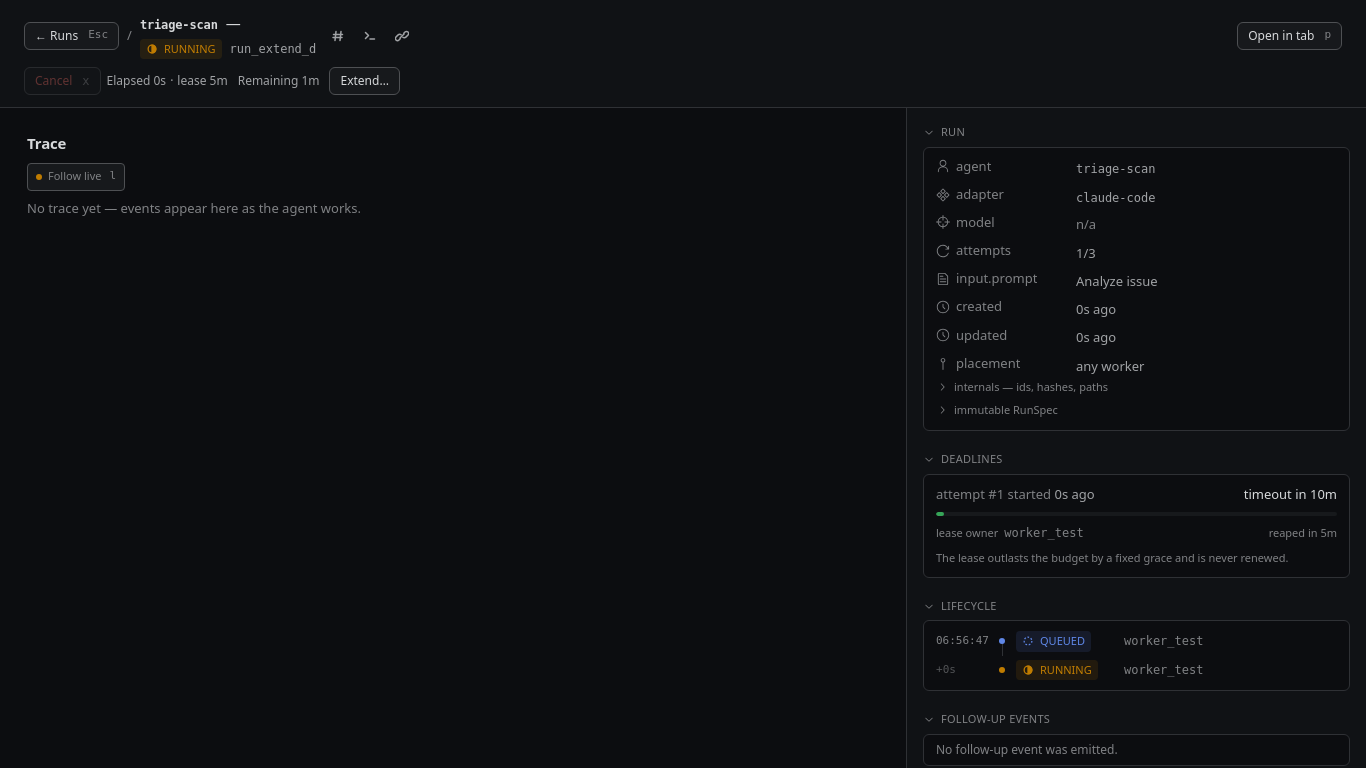
it: RunFull deadline extension (WM-566) › custom extension submit is disabled while disconnected
Click the button "Extend…" at (365, 81), box [330,67,400,95]
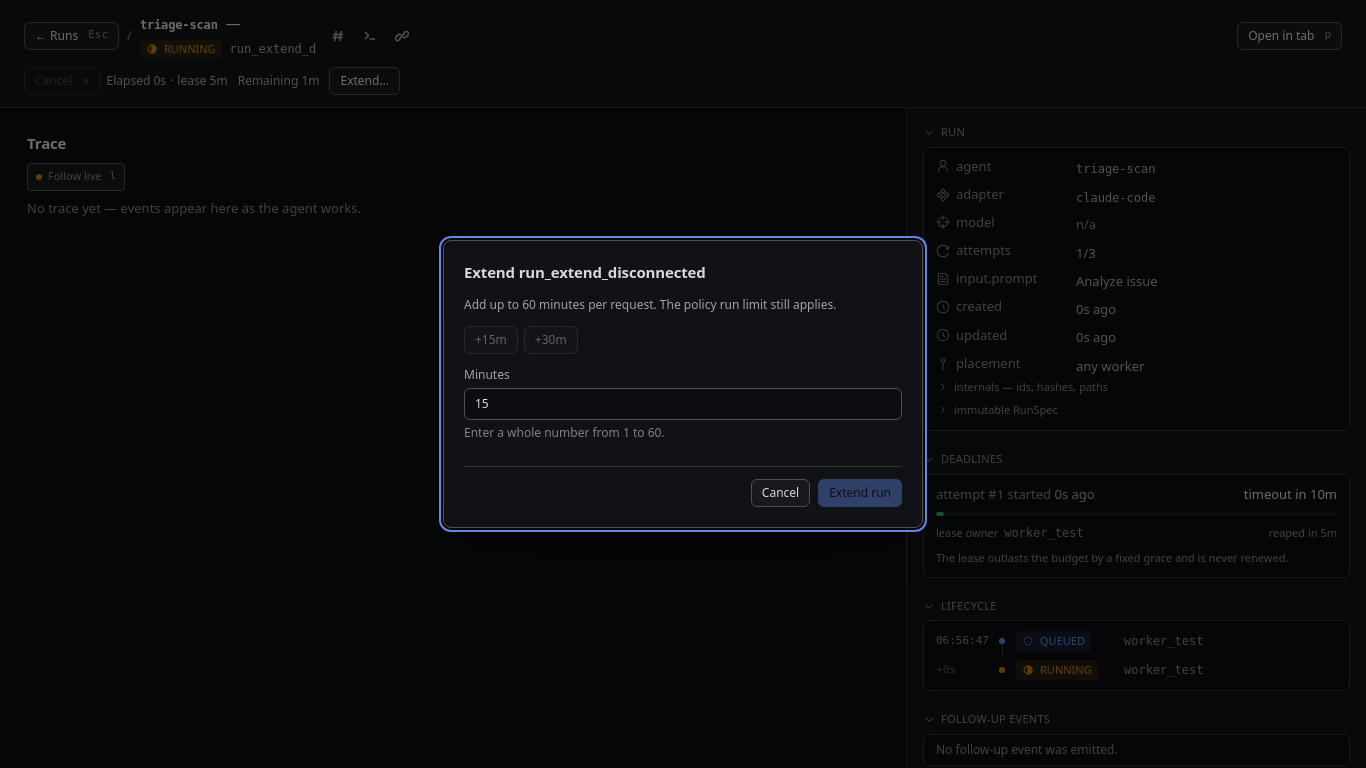
expect the button "Extend run" is disabled: met, box [818,479,902,507]
